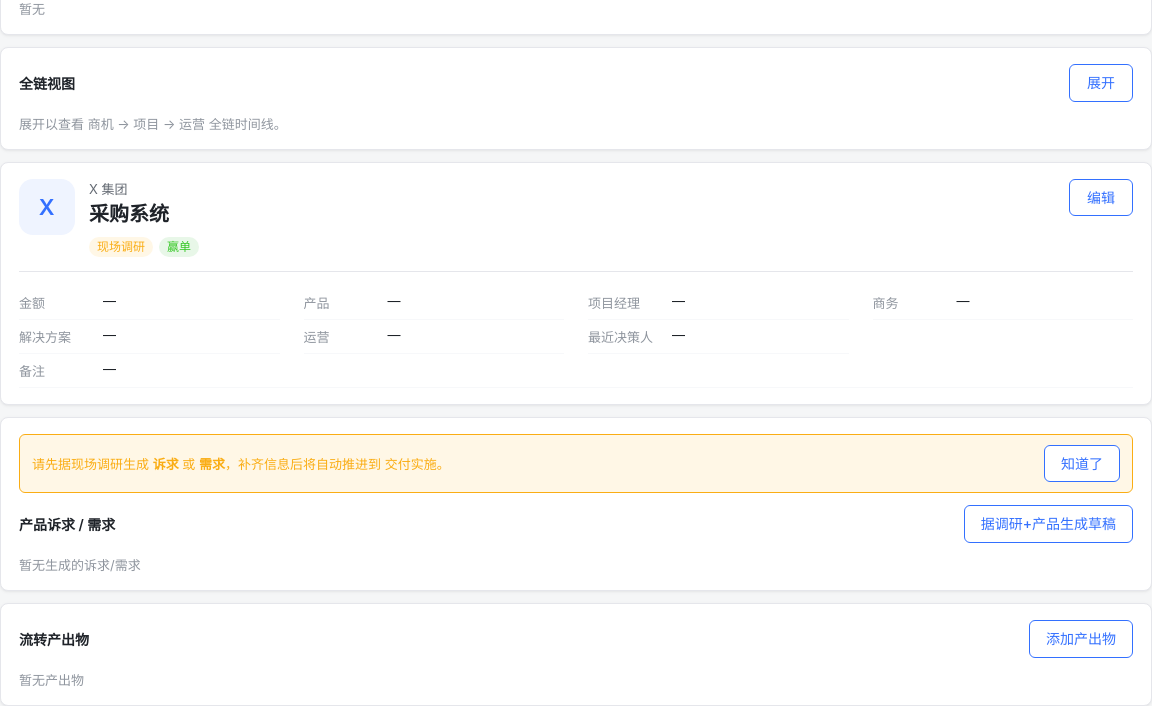
Scenario: OpportunityDetailPage (统一商机详情页) › shows the backend error in the prompt when auto-advance fails (TC-OGEN-F8)
The width and height of the screenshot is (1152, 706).
(page scrolled)
expect the element with test id "opp-gen-convert-prompt" is shown: met, box [19,434,1133,493]
Step 1. Click the button with test id "opp-gen-open" → (1048, 524), box [964,505,1133,543]
(page scrolled)
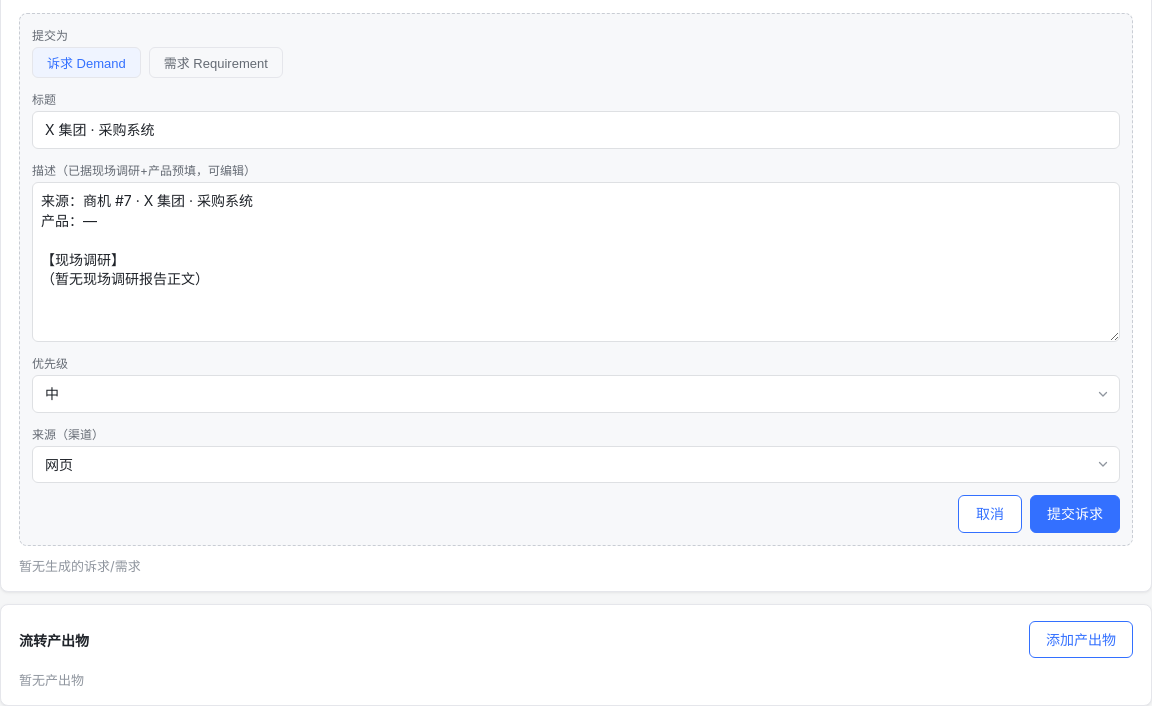
expect the field with test id "opp-gen-title" is shown: met, box [32,111,1120,149]
Step 2. Click the button with test id "opp-gen-save" → (1075, 514), box [1030,495,1120,533]
(page scrolled)
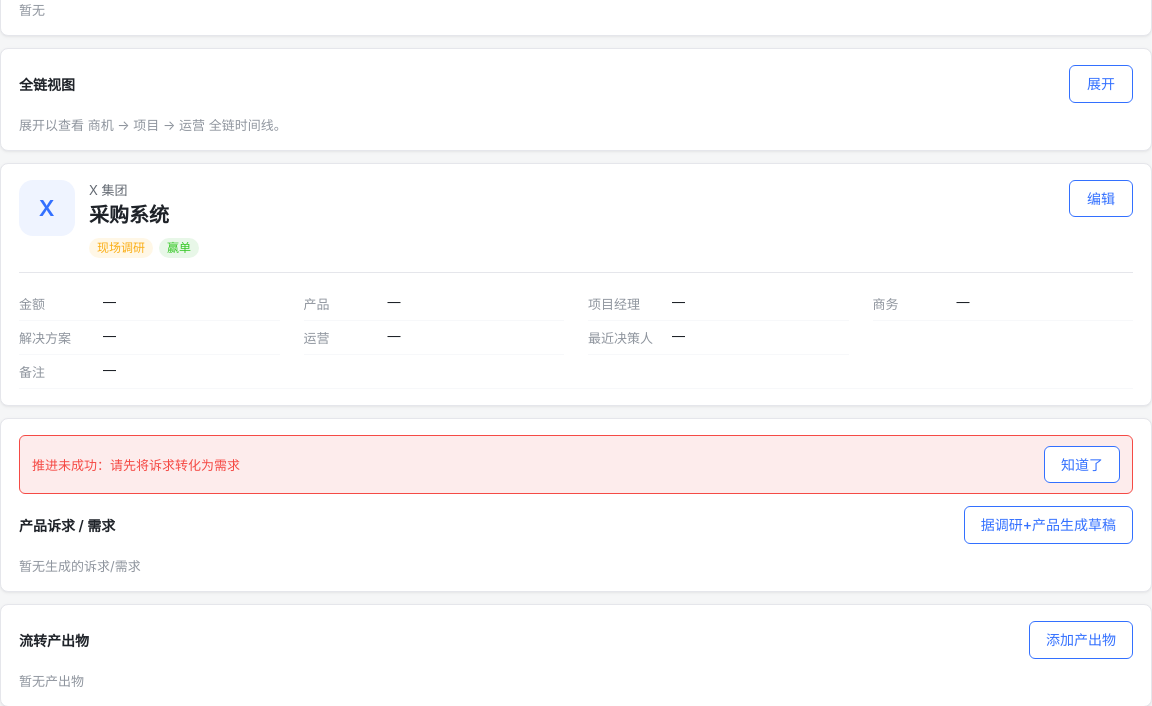
expect the text with test id "opp-gen-convert-prompt-text" shows "请先将诉求转化为需求": met, box [110,457,240,473]
